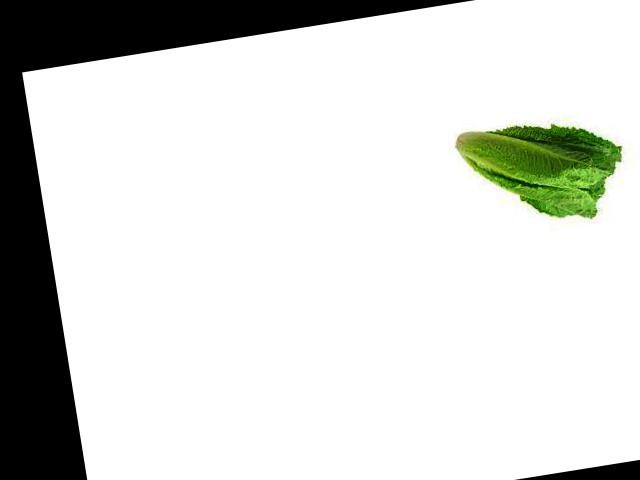lettuce: (446, 100, 625, 236)
